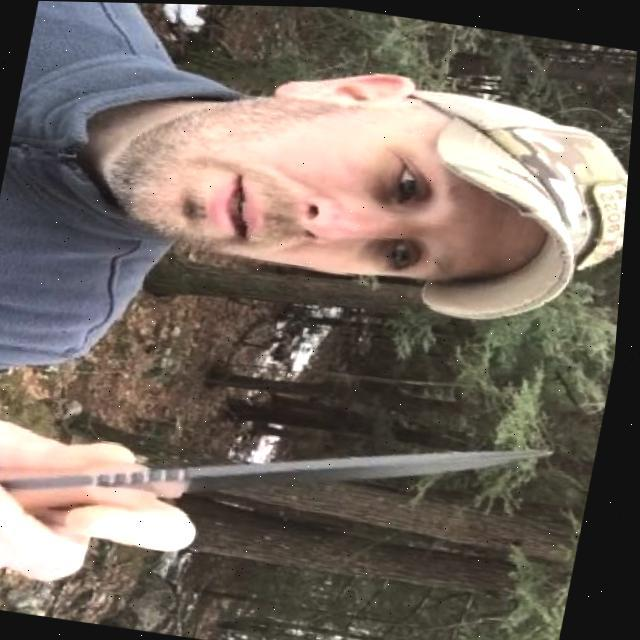knife: (0, 372, 558, 578)
